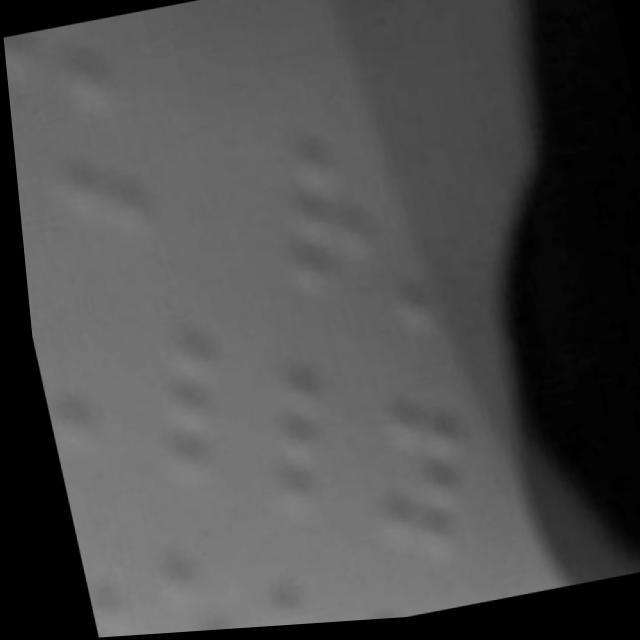braiile: (354, 402, 494, 579), (254, 367, 397, 539), (274, 158, 407, 333), (135, 327, 267, 498), (120, 544, 239, 636)
